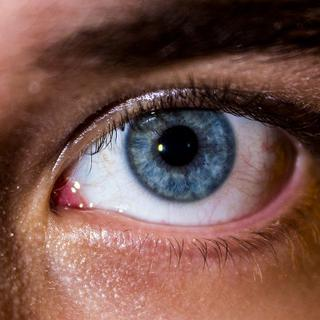pupil: (157, 125, 198, 166)
